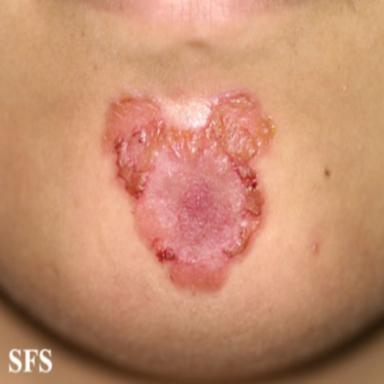Impetigo: (100, 86, 275, 294)
